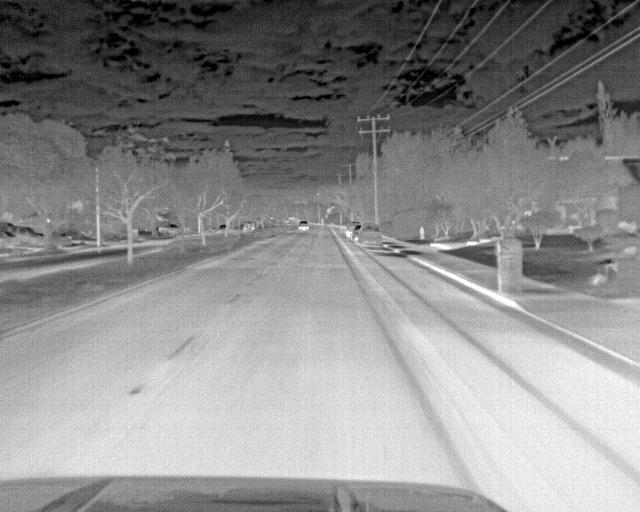car: (361, 224, 382, 245), (350, 225, 362, 242), (296, 221, 311, 234)
